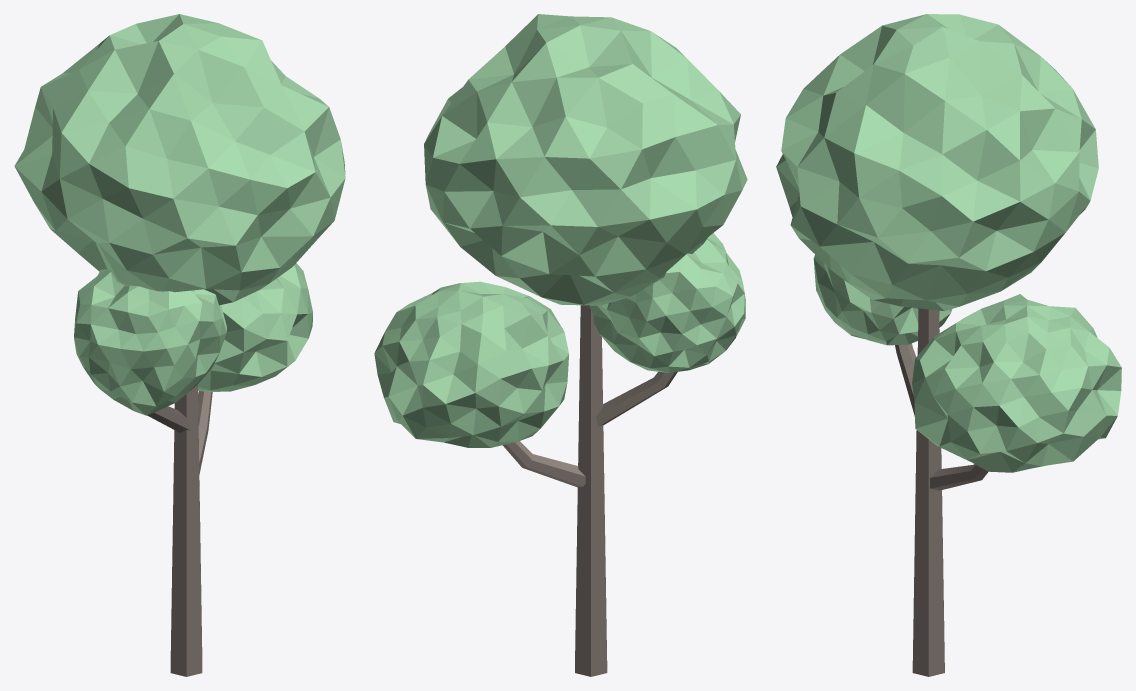
The model's file is Tree_general.fbx.
3 views of the same model, side by side, from view 1: azimuth 30°, elevation 25°; view 2: azimuth 150°, elevation 25°; view 3: azimuth 270°, elevation 25° (orthographic).
Visible parts, largest first — view 1: mesh_tree_general; view 2: mesh_tree_general; view 3: mesh_tree_general.
Boxes of the visible parts, x1,y1,x2,y2 form: mesh_tree_general: (14,14,345,676); mesh_tree_general: (374,14,747,676); mesh_tree_general: (776,14,1121,676).
Bounding box in the file's own units: 3.46 × 7.1 × 3.45.
